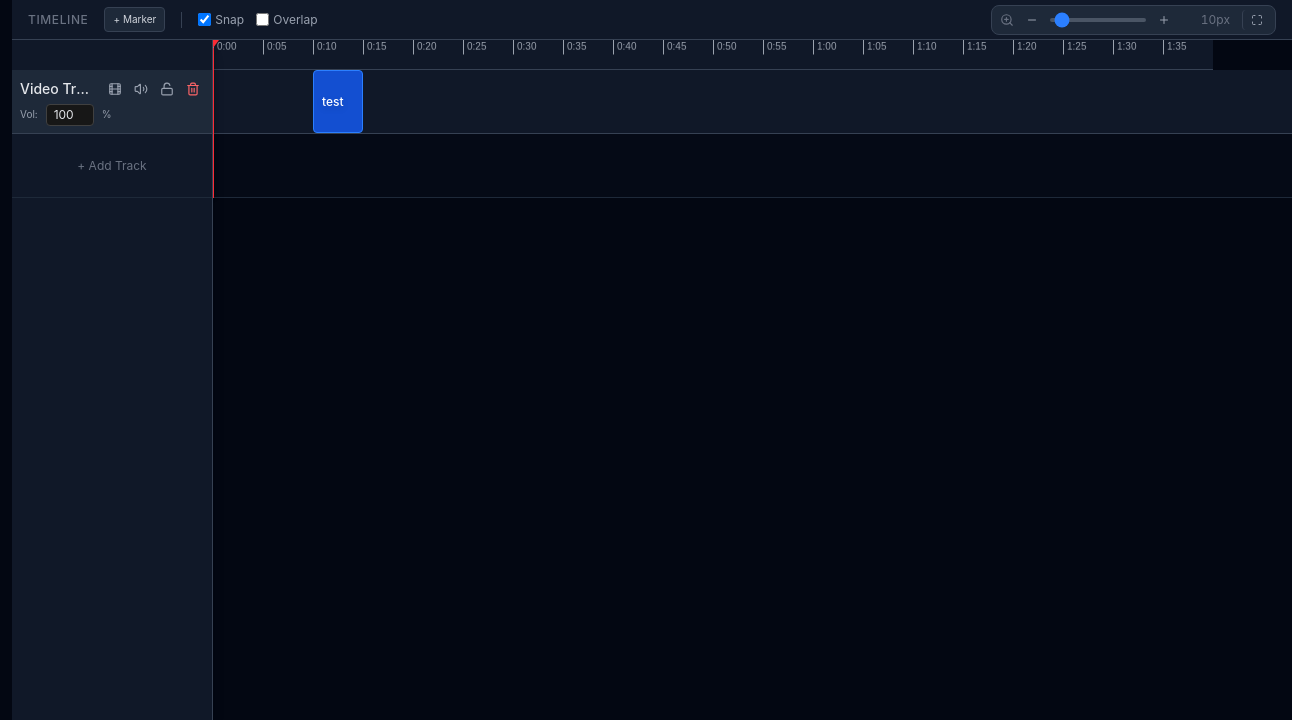
Test: Timeline Editing Integration › can zoom to fit
Check: the text "10px" is shown, box [1201,12,1230,26]
What coordinates should you click on to do the following:
click the button titled "Zoom to Fit"
I would click on:
 (1254, 20)
Its box is [1242,10,1267,30].
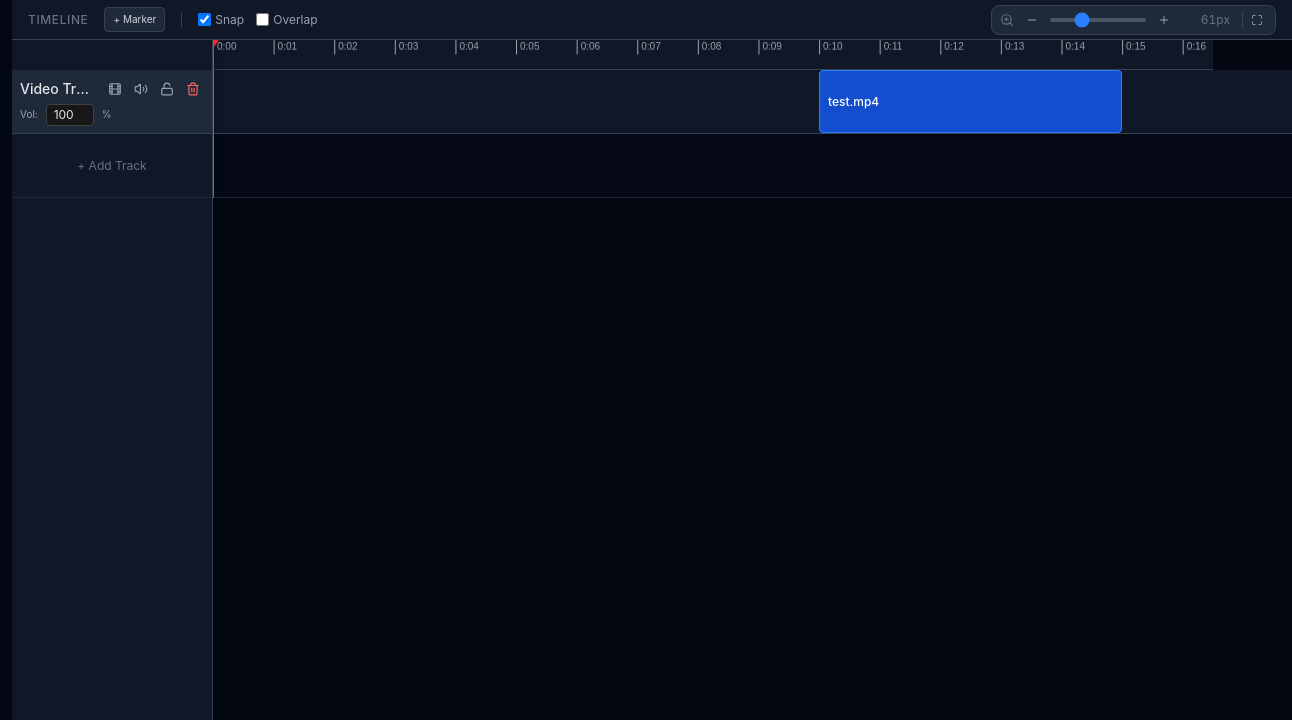
Check: the text "61px" is shown, box [1201,12,1230,26]
